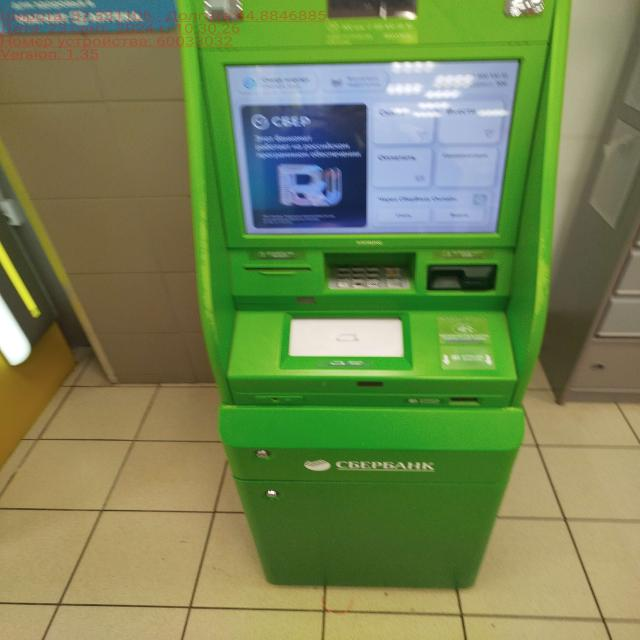bank: (177, 0, 571, 592)
